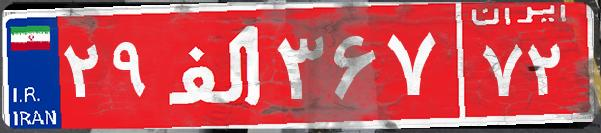2: (57, 26, 110, 107), (525, 38, 570, 115)
3: (273, 28, 330, 110)
6: (330, 28, 385, 110)
7: (385, 28, 445, 110), (475, 38, 525, 113)
9: (110, 28, 158, 105)
الف: (158, 15, 273, 115)
